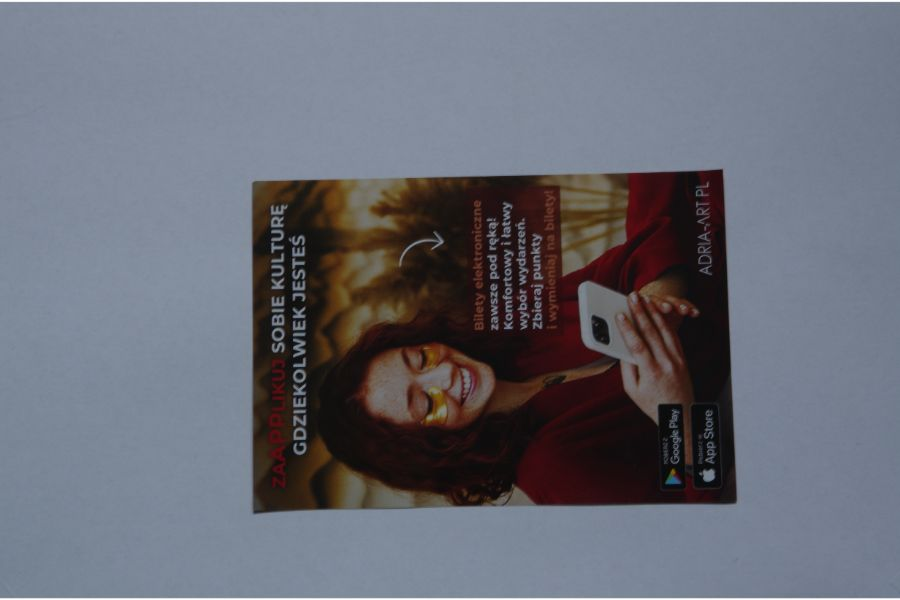album: (250, 169, 740, 516)
